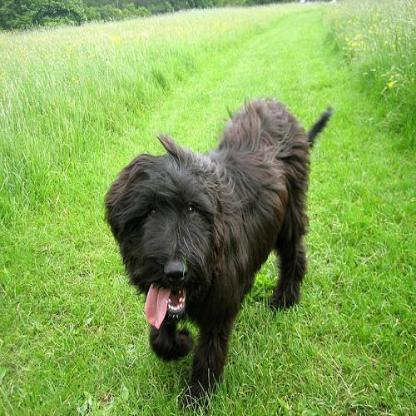briard: (98, 92, 342, 408)
